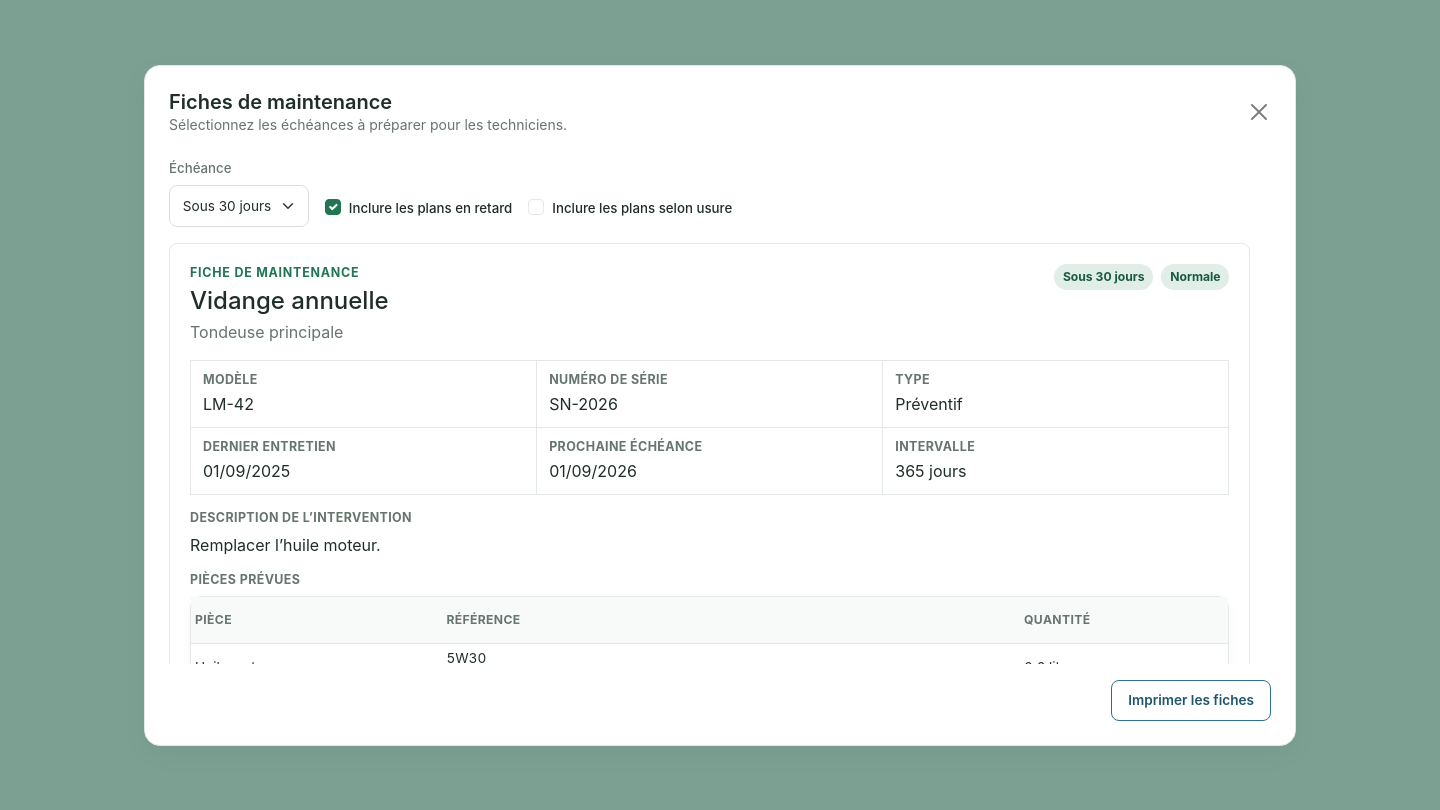
Scenario: MaintenanceSheetsModal › still launches printing and reports when history recording fails
The width and height of the screenshot is (1440, 810).
Check: the heading "Vidange annuelle" is shown, box [190,287,389,316]
Click the button "Imprimer les fiches" at (1191, 700), box [1111,680,1271,720]
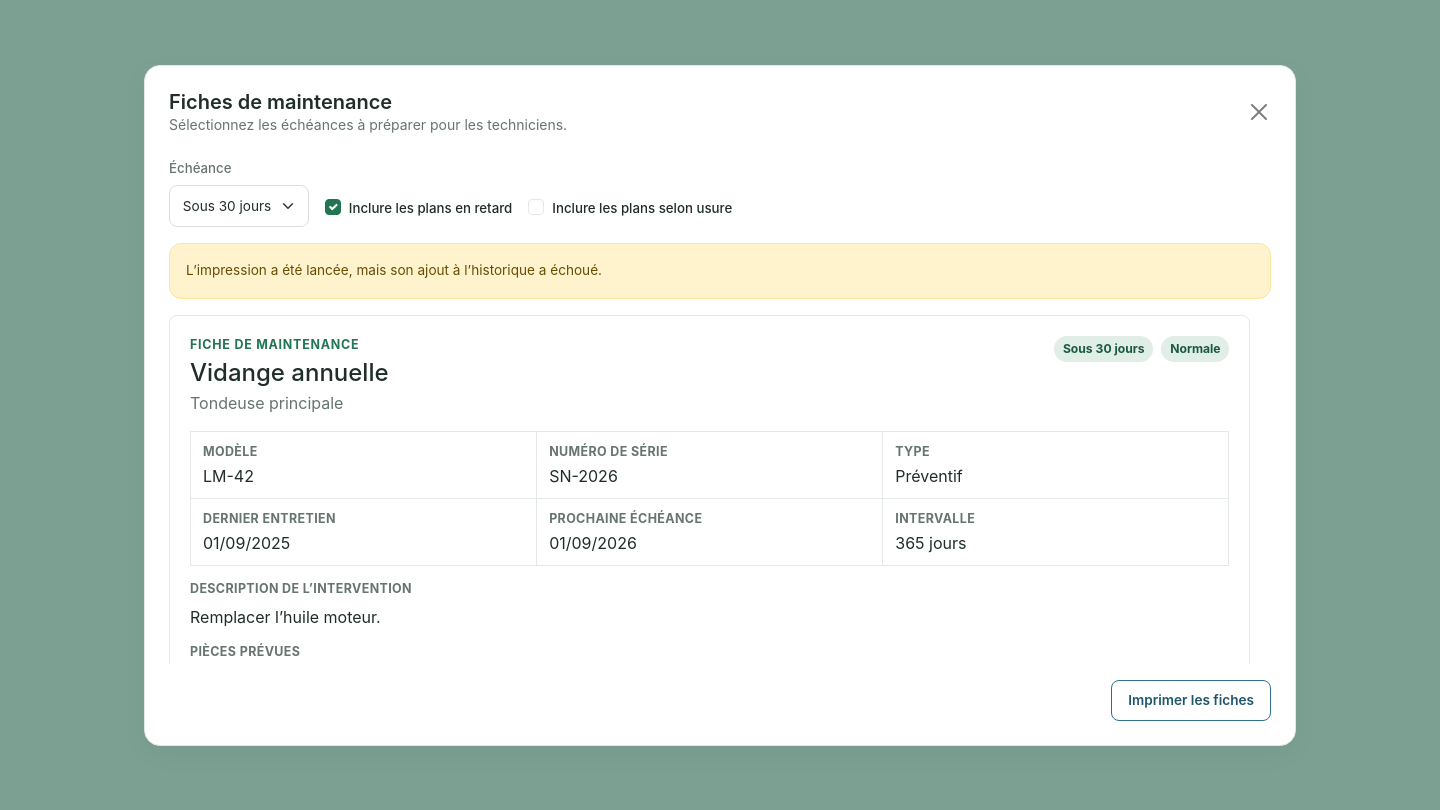
Check: the text "L’impression a été lancée, mais son ajout à l’historique a échoué." is shown, box [169,243,1271,299]
